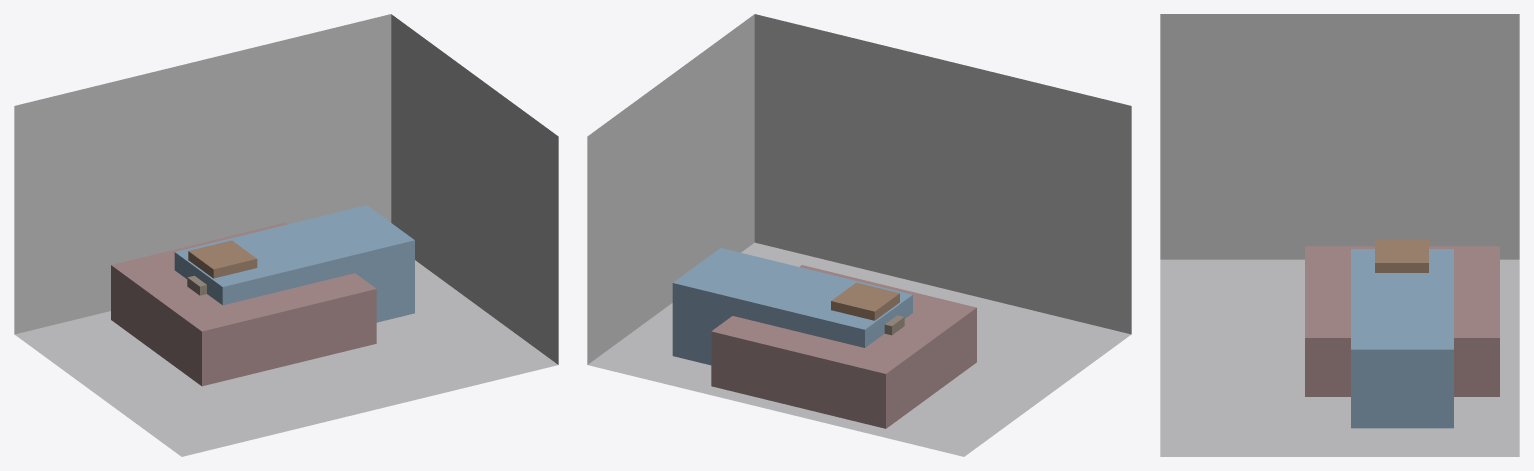
Rendered from optimised_layout.glb.
3 renders of one model, left to right at view 1: azimuth 30°, elevation 25°; view 2: azimuth 150°, elevation 25°; view 3: azimuth 270°, elevation 25°, orthographic. The views are drawn at different scales.
Visible parts, largest first — view 1: room, bed, couch, chair; view 2: room, bed, couch, chair; view 3: room, couch, bed, chair.
Boxes of the visible parts, x1,y1,x2,y2 form: room: [14, 14, 558, 456]; bed: [111, 222, 376, 386]; couch: [174, 205, 414, 322]; chair: [188, 240, 257, 278]; room: [587, 14, 1131, 456]; bed: [711, 265, 976, 428]; couch: [672, 248, 912, 365]; chair: [831, 282, 899, 320]; room: [1160, 14, 1519, 456]; couch: [1351, 249, 1453, 428]; bed: [1305, 246, 1499, 396]; chair: [1375, 240, 1428, 272].
Size of the model in its own units: 4.31 by 2.5 by 3.32.
